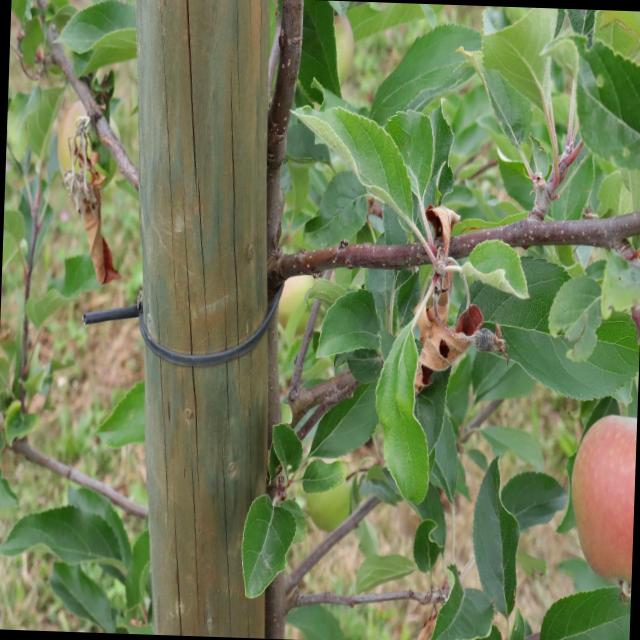-FireBlight-: (402, 202, 499, 393), (59, 120, 120, 284)
